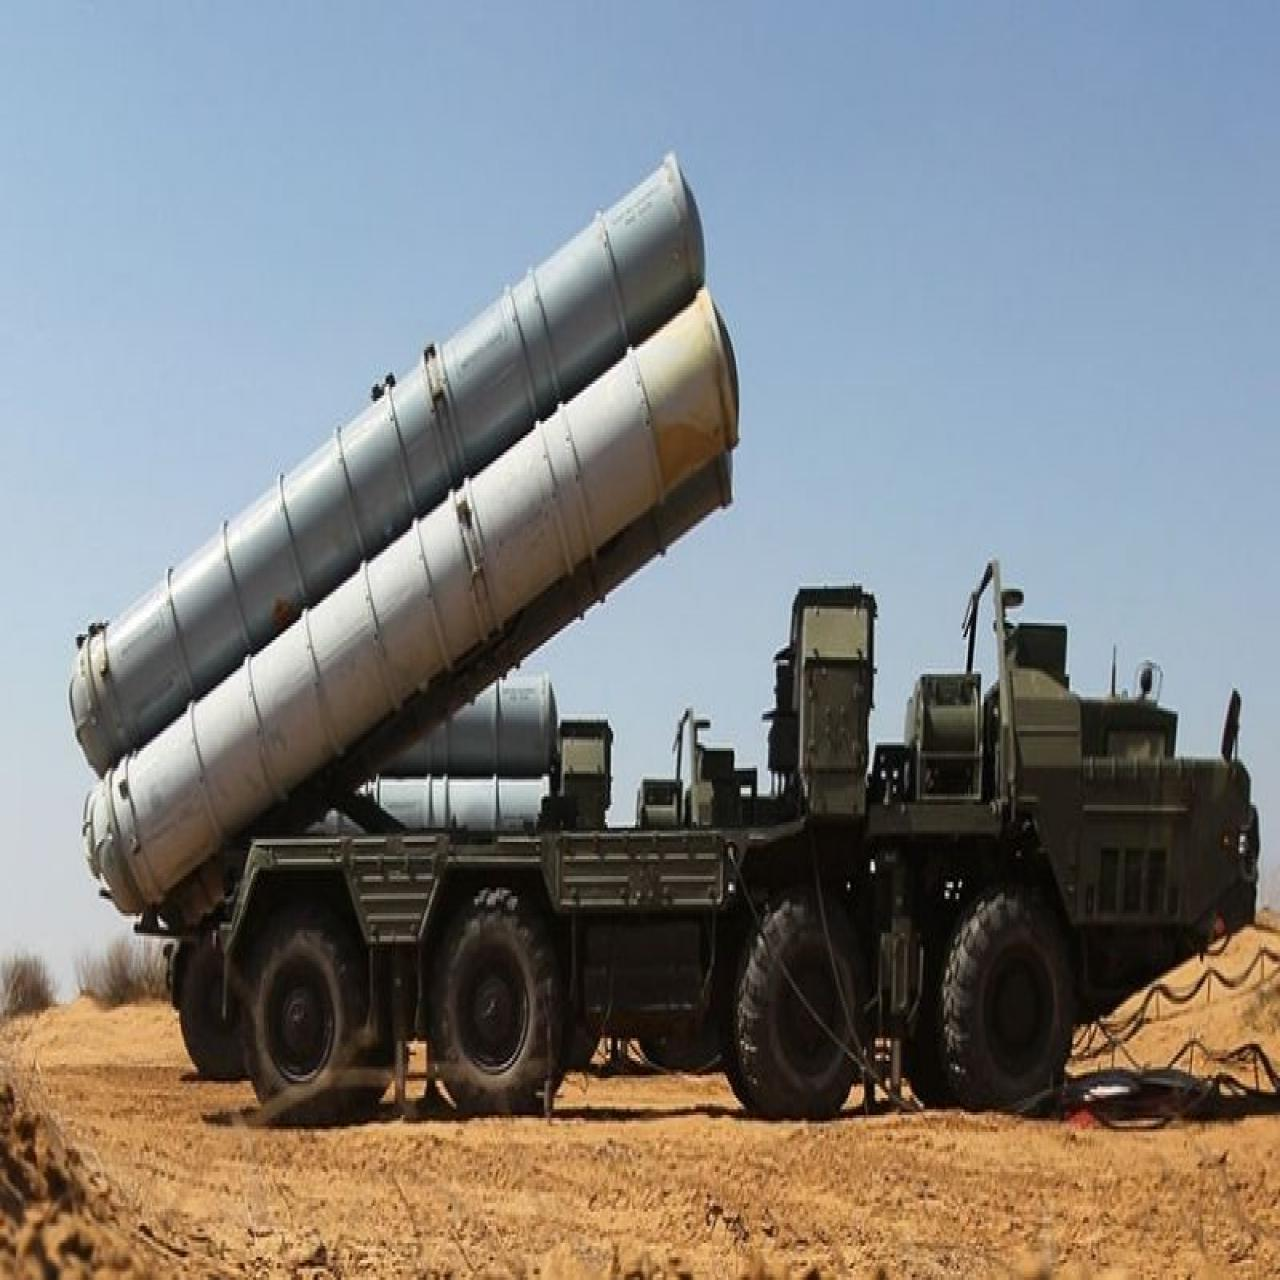MIL_Veh: (73, 151, 1258, 1118)
